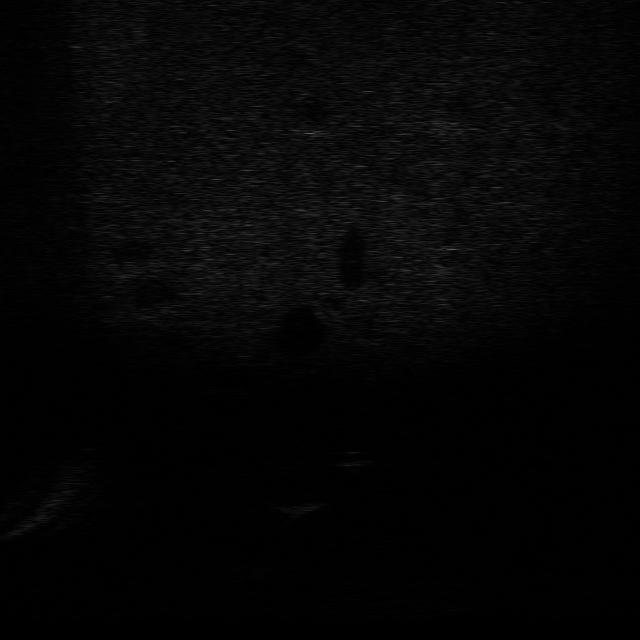ball: (322, 444, 378, 476)
square cage: (259, 484, 335, 519)
